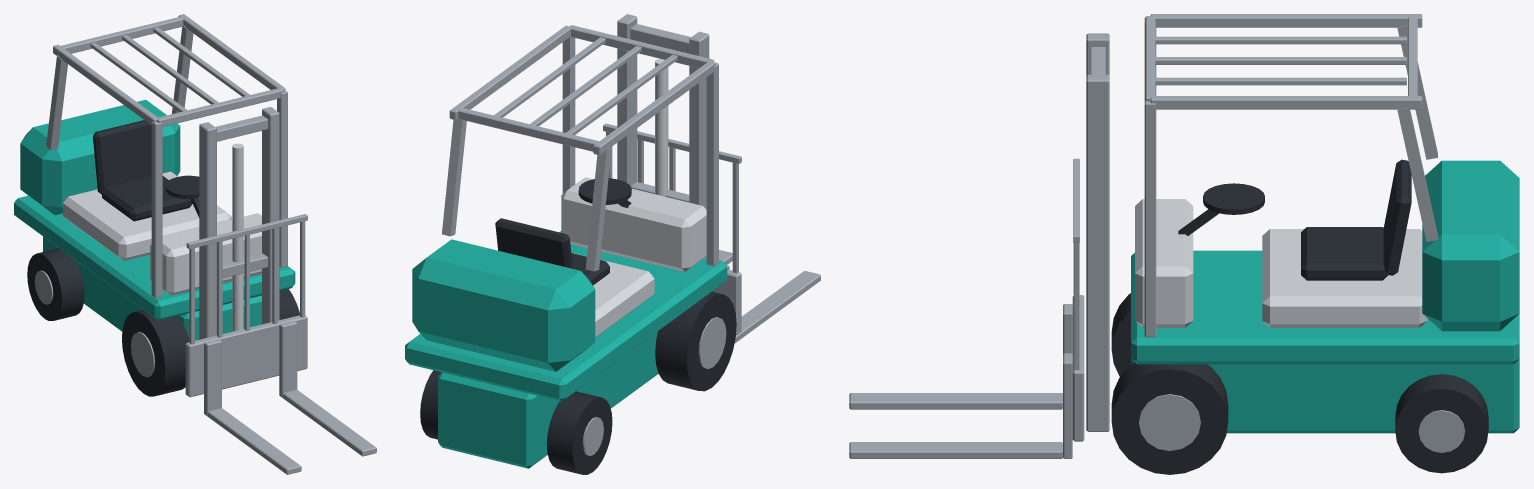
The model's file is forklift.glb.
3 renders of one model, left to right at view 1: azimuth 30°, elevation 25°; view 2: azimuth 150°, elevation 25°; view 3: azimuth 270°, elevation 25°, orthographic. The views are drawn at different scales.
Parts seen in each view (by area): view 1: forklift; view 2: forklift; view 3: forklift.
Part boxes in pixels (x1,y1,x2,y2): forklift: (14, 14, 376, 474); forklift: (405, 14, 820, 474); forklift: (849, 14, 1519, 474).
Bounding box in the file's own units: 1.12 × 2.12 × 3.45.
